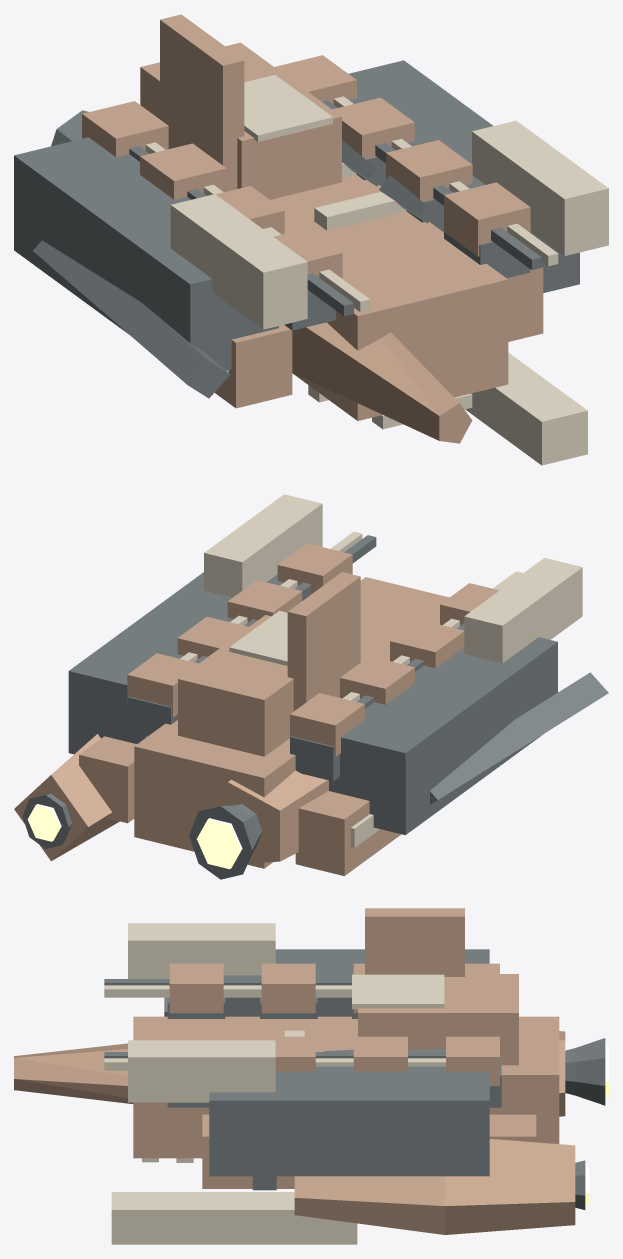
3 views of the same model, one above another, from view 1: azimuth 30°, elevation 25°; view 2: azimuth 150°, elevation 25°; view 3: azimuth 270°, elevation 25° (orthographic). The views are drawn at different scales.
Size of the model in its own units: 14.07 by 9.83 by 20.66.
